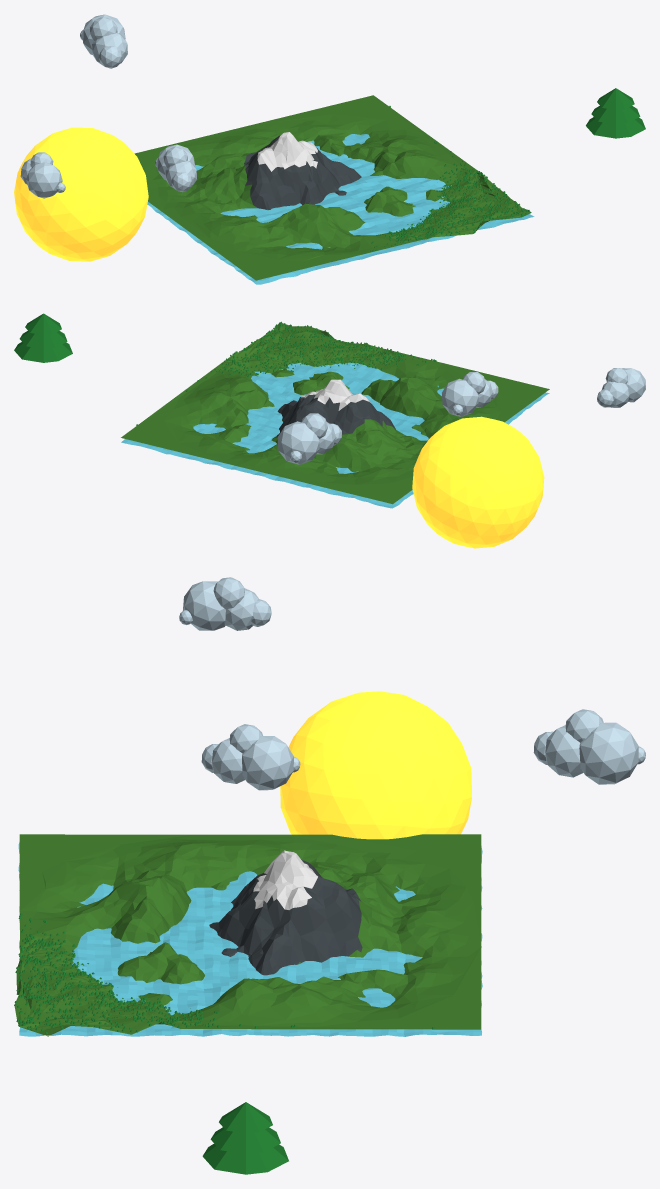
3 renders of one model, top to bottom at view 1: azimuth 30°, elevation 25°; view 2: azimuth 150°, elevation 25°; view 3: azimuth 270°, elevation 25°, orthographic. The views are drawn at different scales.
Parts seen in each view (by area): view 1: Landscape.019, ICO球, Landscape_plane.001, 円錐.002, ICO球.002, ICO球.001, ICO球.004; view 2: Landscape.019, ICO球, Landscape_plane.001, ICO球.002, 円錐.002, ICO球.001, ICO球.004; view 3: Landscape.019, ICO球, Landscape_plane.001, ICO球.002, ICO球.001, 円錐.002, ICO球.004.
Boxes of the visible parts, x1,y1,x2,y2 form: Landscape.019: (134, 95, 530, 280); ICO球: (14, 127, 148, 261); Landscape_plane.001: (147, 134, 534, 284); 円錐.002: (586, 88, 645, 138); ICO球.002: (80, 14, 127, 68); ICO球.001: (155, 144, 196, 192); ICO球.004: (20, 152, 65, 198); Landscape.019: (121, 323, 549, 504); ICO球: (412, 416, 544, 548); Landscape_plane.001: (121, 362, 549, 508); ICO球.002: (277, 413, 341, 464); 円錐.002: (14, 313, 72, 362); ICO球.001: (442, 372, 498, 416); ICO球.004: (597, 368, 645, 407); Landscape.019: (14, 834, 481, 1036); ICO球: (280, 691, 471, 839); Landscape_plane.001: (18, 842, 482, 1036); ICO球.002: (533, 709, 645, 784); ICO球.001: (201, 724, 300, 790); 円錐.002: (202, 1102, 288, 1174); ICO球.004: (179, 577, 271, 630).
Size of the model in its own units: 4.5 by 1.12 by 2.74.
